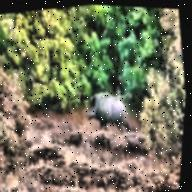boar: (81, 80, 132, 139)
